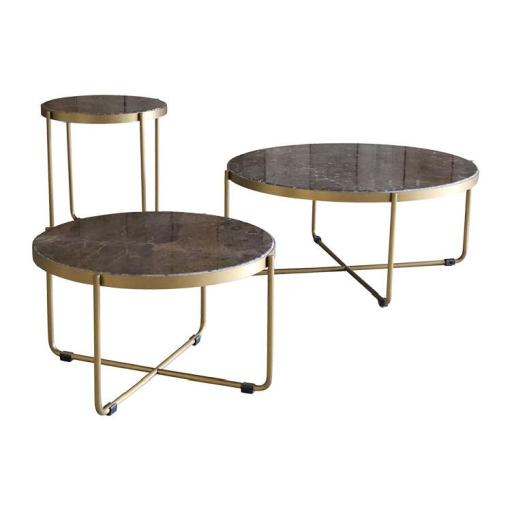table: (26, 209, 292, 421), (215, 136, 486, 289), (38, 84, 170, 234)
